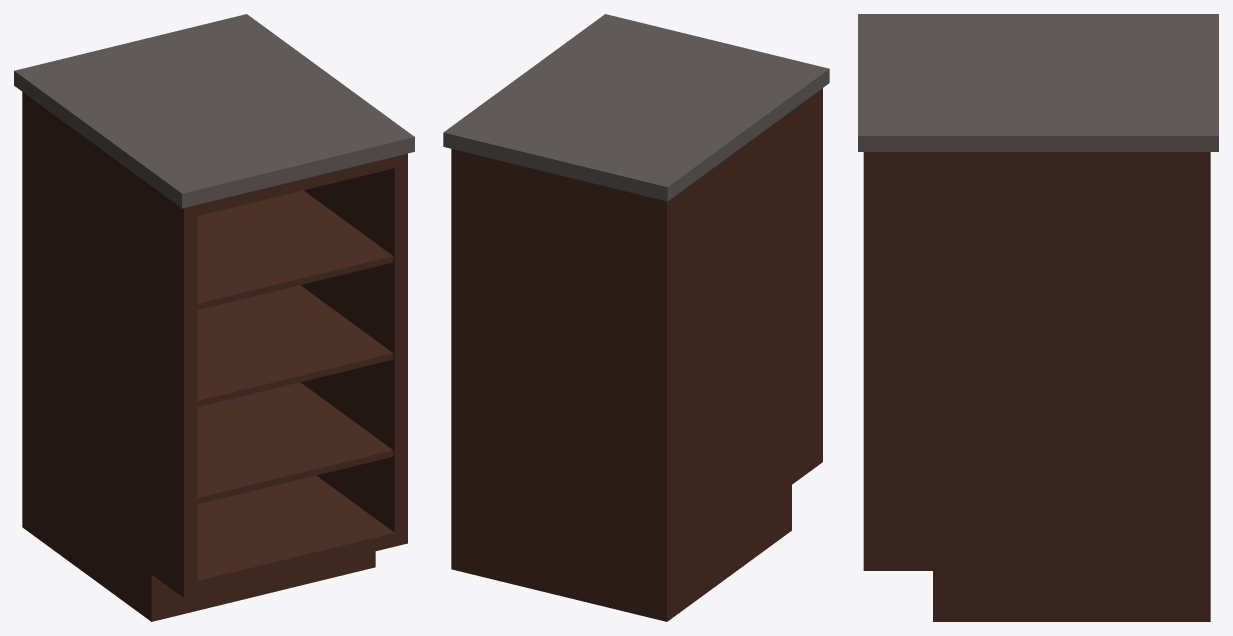
Rendered from OpenBaseCabinet1.glb.
The picture shows the model from 3 angles, left to right: view 1: azimuth 30°, elevation 25°; view 2: azimuth 150°, elevation 25°; view 3: azimuth 270°, elevation 25°; orthographic projection. The views are drawn at different scales.
Visible parts, largest first — view 1: OpenBaseCabinet1; view 2: OpenBaseCabinet1; view 3: OpenBaseCabinet1.
Part boxes in pixels (x1=…): OpenBaseCabinet1: x1=14, y1=14, x2=414, y2=621; OpenBaseCabinet1: x1=443, y1=14, x2=829, y2=621; OpenBaseCabinet1: x1=858, y1=14, x2=1218, y2=621.
Bounding box in the file's own units: 0.4863 × 0.9081 × 0.608.
